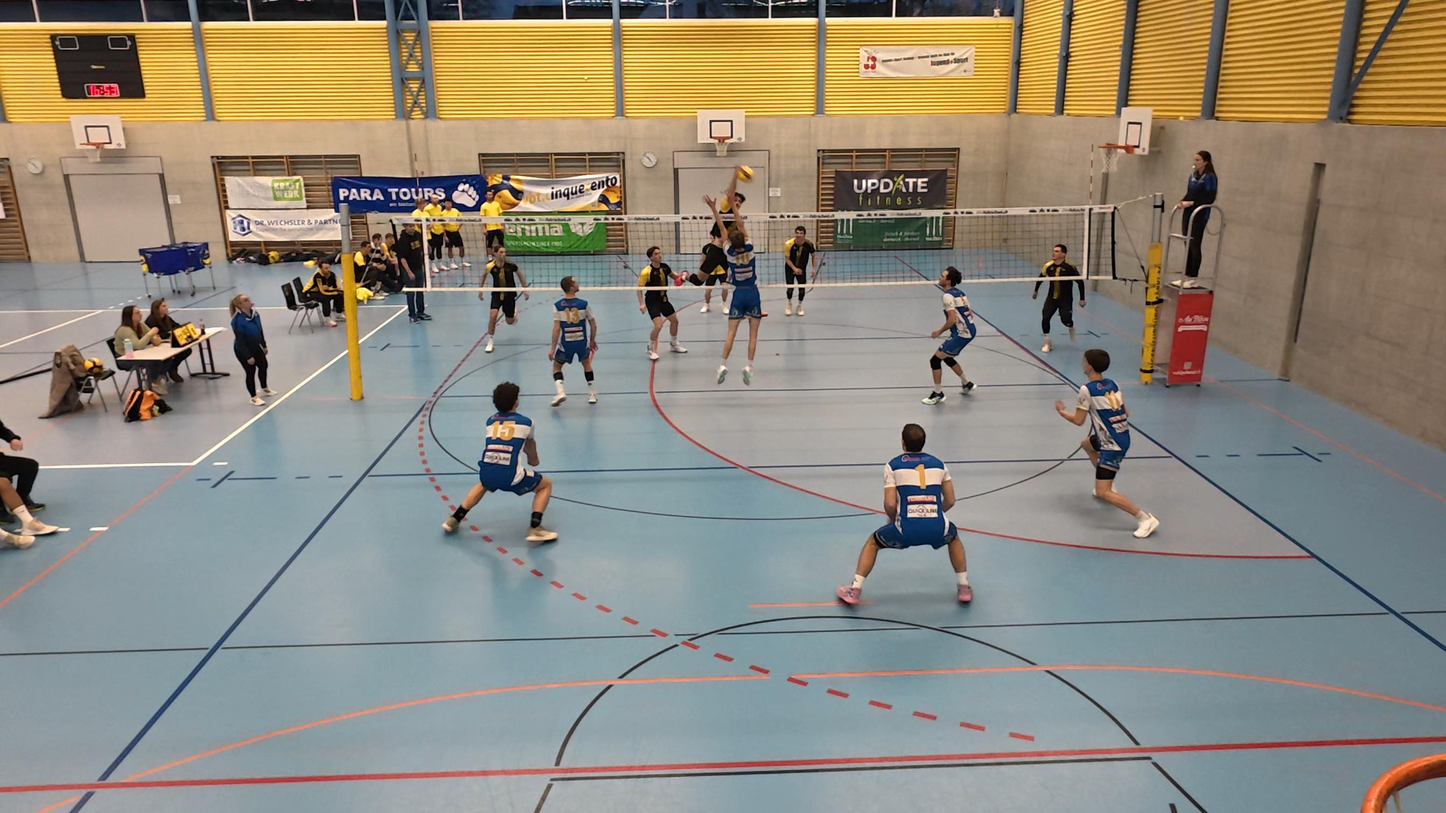Attack: (682, 178, 750, 304)
Block: (709, 206, 770, 387)
Player: (837, 424, 973, 607), (1058, 348, 1160, 538), (443, 382, 560, 543), (926, 267, 979, 407), (546, 277, 603, 405), (1032, 244, 1085, 359), (637, 245, 685, 359), (477, 245, 523, 354), (780, 222, 819, 317), (694, 230, 732, 314)
ball: (734, 164, 755, 181)
